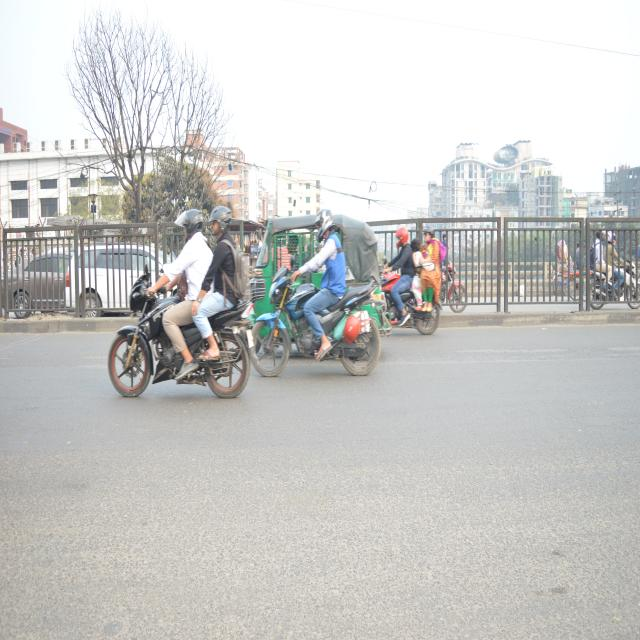car: (1, 250, 67, 318)
microbus: (66, 235, 168, 315)
motorbike: (113, 278, 247, 415), (254, 274, 382, 386), (383, 260, 438, 358), (576, 253, 640, 319)
